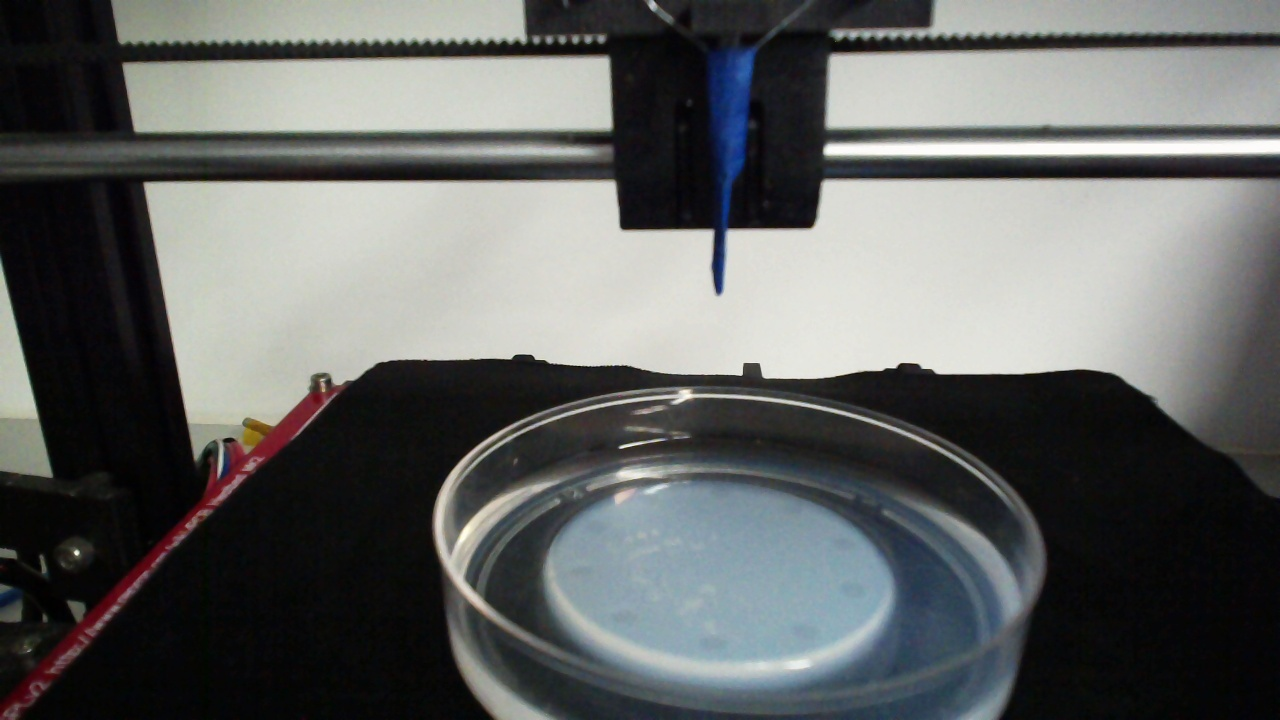groove: (790, 619, 822, 642), (827, 531, 858, 554), (840, 578, 868, 603), (697, 631, 730, 651), (779, 499, 807, 520), (609, 608, 637, 627), (635, 490, 663, 508), (567, 565, 593, 584), (586, 517, 613, 534), (710, 483, 734, 502)
needle: (702, 54, 754, 296)
